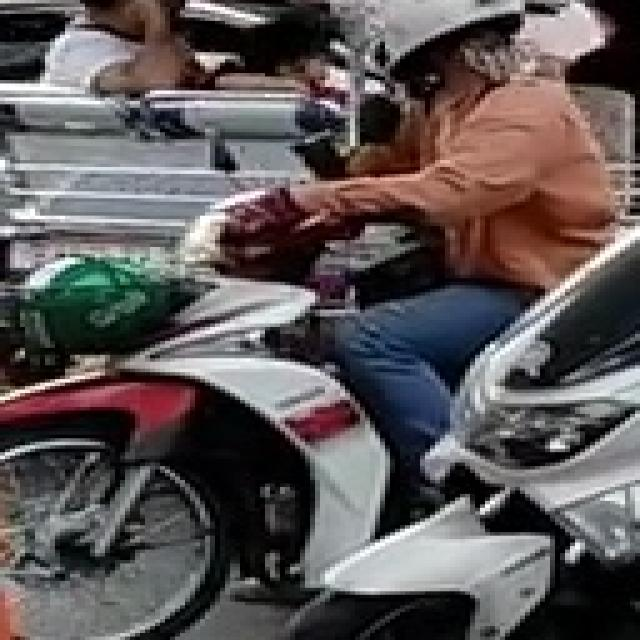helmet: (10, 250, 200, 362), (325, 0, 525, 77), (175, 184, 325, 282)
tyre: (0, 435, 230, 636)
